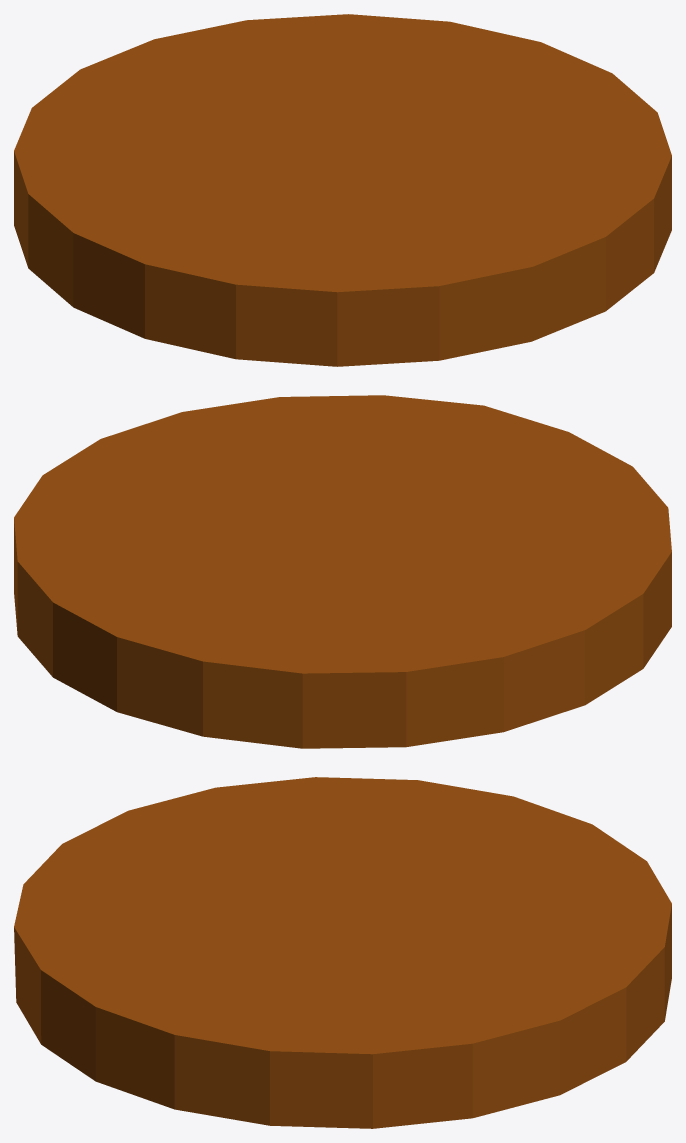
Rendered from SM_Burger_Fried.fbx.
The picture shows the model from 3 angles, top to bottom: view 1: azimuth 30°, elevation 25°; view 2: azimuth 150°, elevation 25°; view 3: azimuth 270°, elevation 25°; orthographic projection.
Visible parts, largest first — view 1: burger.002; view 2: burger.002; view 3: burger.002.
Part boxes in pixels (box(x1,y1,x2,y2)): burger.002: box(14, 14, 671, 366); burger.002: box(14, 395, 671, 748); burger.002: box(14, 777, 671, 1128).
Bounding box in the file's own units: 38.9 × 4.96 × 39.03.
